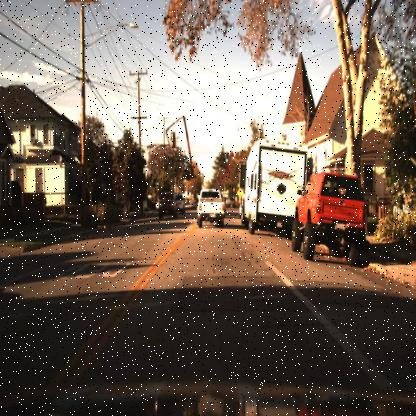car: (289, 171, 366, 263), (193, 187, 226, 231), (157, 190, 178, 219)
trafficLight-Green: (223, 148, 231, 168)
truck: (238, 135, 310, 237), (244, 132, 310, 235)
